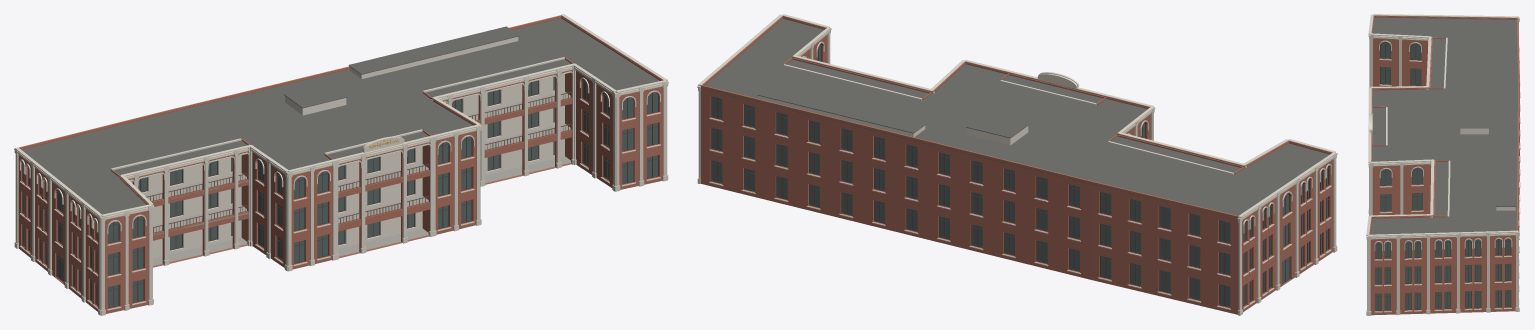
Rendered from huangpu-sino-french-school-teaching-building-lod.glb.
3 views of the same model, side by side, from view 1: azimuth 30°, elevation 25°; view 2: azimuth 150°, elevation 25°; view 3: azimuth 270°, elevation 25° (orthographic). The views are drawn at different scales.
Visible parts, largest first — view 1: 光明中学教学楼（原中法学堂）; view 2: 光明中学教学楼（原中法学堂）; view 3: 光明中学教学楼（原中法学堂）.
Part boxes in pixels (box(x1,y1,x2,y2)): 光明中学教学楼（原中法学堂）: box(14, 14, 668, 315); 光明中学教学楼（原中法学堂）: box(697, 14, 1337, 315); 光明中学教学楼（原中法学堂）: box(1366, 14, 1520, 315).
Bounding box in the file's own units: 85.53 × 15.77 × 25.17.
